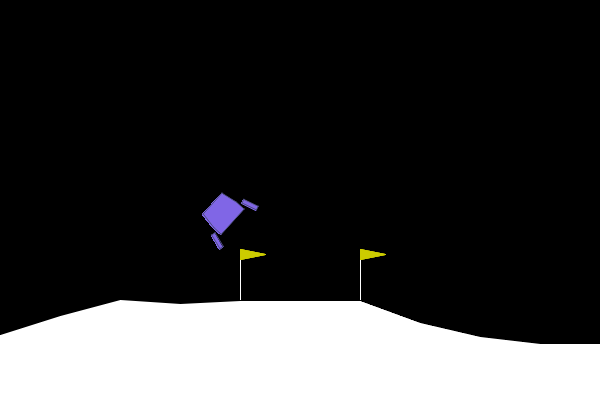lander: (190, 180, 260, 252)
